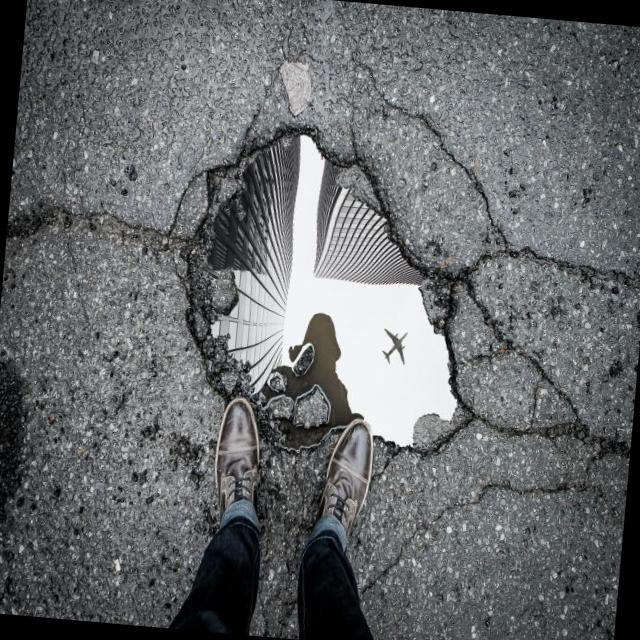Pothole: (184, 129, 471, 451)
